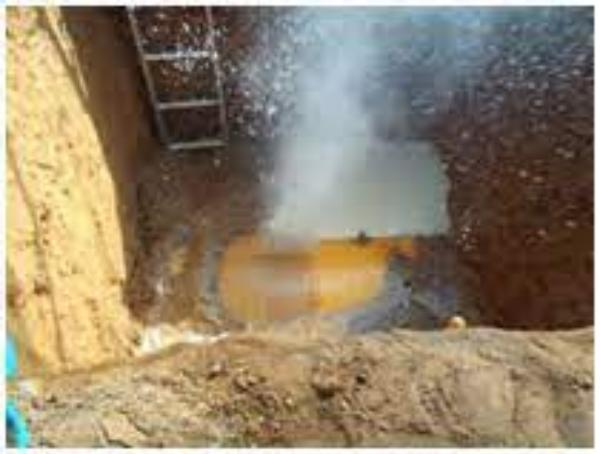gas: (245, 174, 348, 292)
